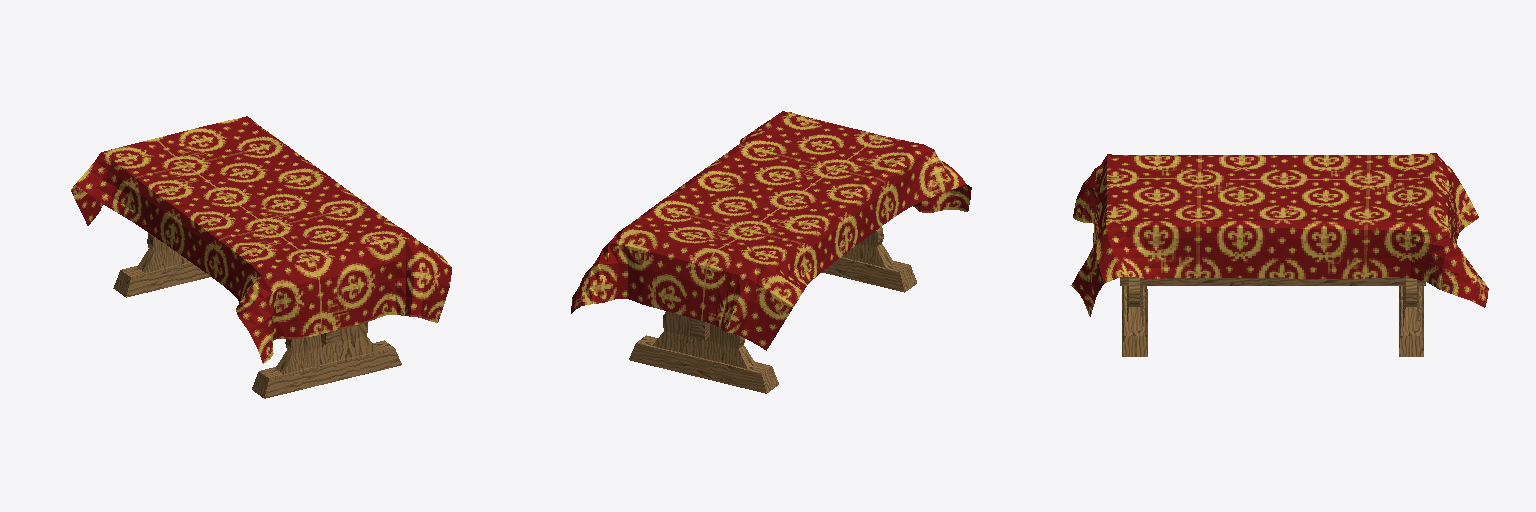
3 views of the same model, side by side, from view 1: azimuth 30°, elevation 25°; view 2: azimuth 150°, elevation 25°; view 3: azimuth 270°, elevation 25° (orthographic).
Parts seen in each view (by area): view 1: pPlane1, pCube9 group1, group1 pCube7; view 2: pPlane1, group1 pCube7, pCube9 group1; view 3: pPlane1, group1 pCube3, pCube9 group1, group1 pCube7.
Boxes of the visible parts, <box> form: pPlane1: <box>71,116,451,363</box>; pCube9 group1: <box>252,322,401,398</box>; group1 pCube7: <box>113,233,210,297</box>; pPlane1: <box>571,111,971,350</box>; group1 pCube7: <box>629,311,778,393</box>; pCube9 group1: <box>822,227,916,292</box>; pPlane1: <box>1071,153,1488,316</box>; group1 pCube3: <box>1120,277,1425,285</box>; pCube9 group1: <box>1122,277,1147,356</box>; group1 pCube7: <box>1399,278,1423,356</box>.
Bounding box in the file's own units: 4.65 × 2.78 × 7.74.
Materials: 2 (2 with a texture image).